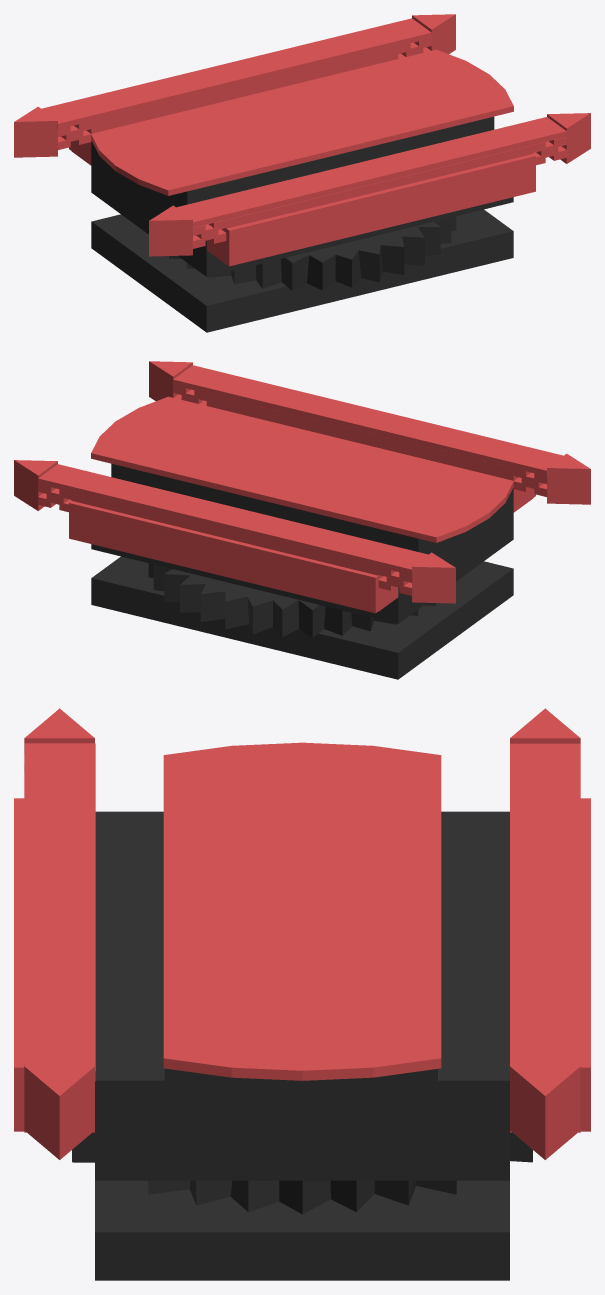
Rendered from conveyorrotativo 1.fbx.
The picture shows the model from 3 angles, top to bottom: view 1: azimuth 30°, elevation 25°; view 2: azimuth 150°, elevation 25°; view 3: azimuth 270°, elevation 25°; orthographic projection. The views are drawn at different scales.
Visible parts, largest first — view 1: Cylinder.001, Cube, Cube.011, Cube.012, Cube.001, Cube.002, Cylinder.002, Cube.008, Cube.010, Triangle.002, Triangle.003, Triangle.001 (+5 smaller); view 2: Cylinder.001, Cube, Cube.009, Cube.012, Cube.002, Cube.001, Cylinder.002, Cube.010, Cube.008, Triangle.003, Triangle.002, Triangle (+5 smaller); view 3: Cylinder.001, Cube.012, Cube, Cube.002, Cube.001, Cylinder.002, Triangle, Triangle.001, Cube.009, Cube.011, Triangle.002, Triangle.003.
Boxes of the visible parts, x1=… form: Cylinder.001: x1=91, y1=49, x2=513, y2=195; Cube: x1=91, y1=209, x2=513, y2=332; Cube.011: x1=226, y1=154, x2=535, y2=266; Cube.012: x1=91, y1=116, x2=513, y2=276; Cube.001: x1=41, y1=18, x2=431, y2=129; Cube.002: x1=176, y1=117, x2=566, y2=227; Cylinder.002: x1=169, y1=216, x2=456, y2=290; Cube.008: x1=72, y1=46, x2=398, y2=165; Cube.010: x1=206, y1=145, x2=533, y2=264; Triangle.002: x1=149, y1=205, x2=192, y2=256; Triangle.003: x1=14, y1=106, x2=57, y2=157; Triangle.001: x1=547, y1=113, x2=590, y2=163; Cylinder.001: x1=91, y1=396, x2=513, y2=542; Cube: x1=91, y1=556, x2=513, y2=679; Cube.009: x1=69, y1=501, x2=378, y2=613; Cube.012: x1=91, y1=463, x2=513, y2=623; Cube.002: x1=173, y1=365, x2=563, y2=476; Cube.001: x1=38, y1=464, x2=428, y2=575; Cylinder.002: x1=148, y1=563, x2=435, y2=637; Cube.010: x1=206, y1=393, x2=532, y2=512; Cube.008: x1=71, y1=492, x2=398, y2=611; Triangle.003: x1=412, y1=552, x2=455, y2=603; Triangle.002: x1=547, y1=453, x2=590, y2=504; Triangle: x1=14, y1=460, x2=57, y2=510; Cylinder.001: x1=163, y1=742, x2=441, y2=1080; Cube.012: x1=95, y1=811, x2=509, y2=1180; Cube: x1=95, y1=1180, x2=509, y2=1280; Cube.002: x1=24, y1=743, x2=95, y2=1081; Cube.001: x1=510, y1=743, x2=580, y2=1066; Cylinder.002: x1=72, y1=1132, x2=532, y2=1214; Triangle: x1=510, y1=1066, x2=580, y2=1159; Triangle.001: x1=24, y1=1066, x2=94, y2=1159; Cube.009: x1=580, y1=798, x2=590, y2=1131; Cube.011: x1=14, y1=798, x2=24, y2=1131; Triangle.002: x1=24, y1=708, x2=94, y2=753; Triangle.003: x1=510, y1=708, x2=580, y2=743.
Size of the model in its own units: 827 by 243 by 520.
